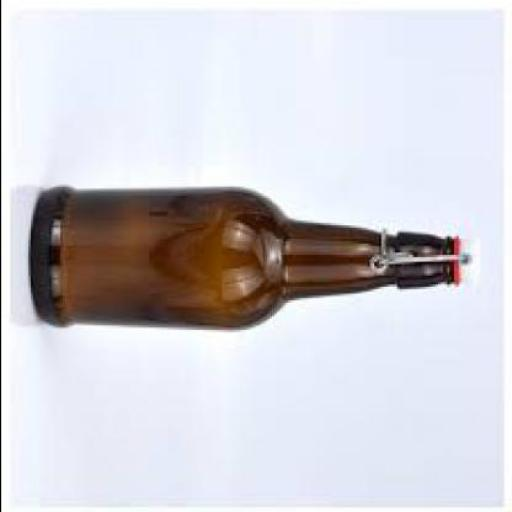glass: (32, 189, 453, 334)
metal: (377, 234, 476, 276)
plastic: (462, 243, 482, 283)
